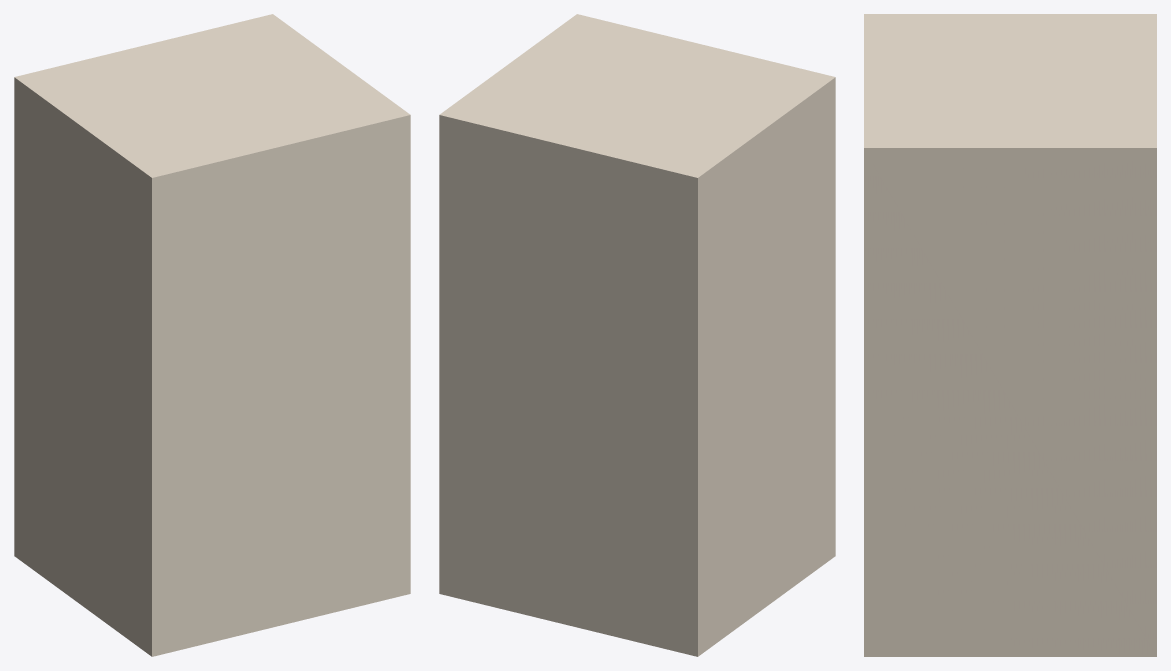
File: stair_access.glb
The picture shows the model from 3 angles, left to right: view 1: azimuth 30°, elevation 25°; view 2: azimuth 150°, elevation 25°; view 3: azimuth 270°, elevation 25°; orthographic projection. The views are drawn at different scales.
Visible parts, largest first — view 1: component_stair_access; view 2: component_stair_access; view 3: component_stair_access.
Boxes of the visible parts, <box> form: component_stair_access: <box>14,14,410,656</box>; component_stair_access: <box>439,14,835,656</box>; component_stair_access: <box>864,14,1156,656</box>.
Size of the model in its own units: 1.3 by 2.3 by 1.2.
